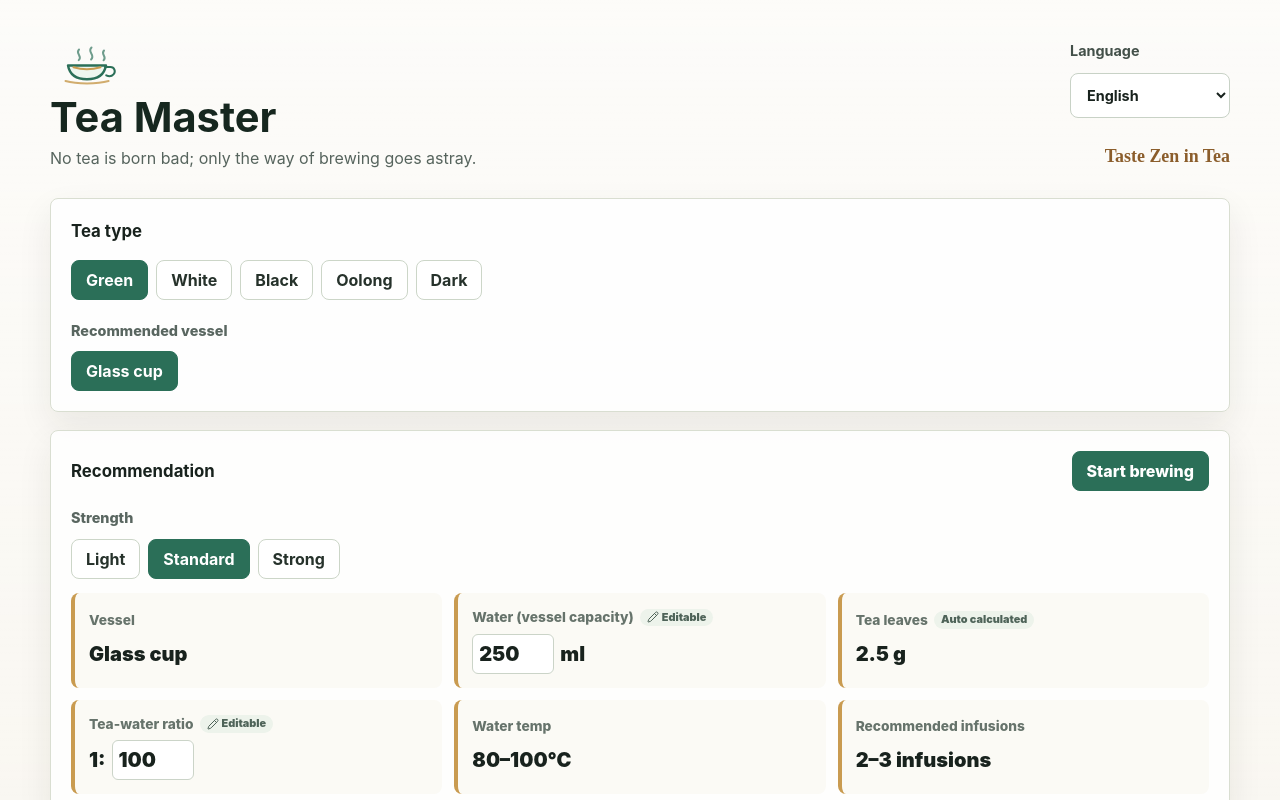
it: Tea Master app › lets users adjust tea strength presets by changing the active ratio
Expected: the element named "Strength" is shown, 71,539 -> 340,579
Expected: the text with test id "tea-amount" reads "2.5 g", 856,642 -> 906,666
Click the button "Light" at [106, 559], box 71,539 -> 140,579
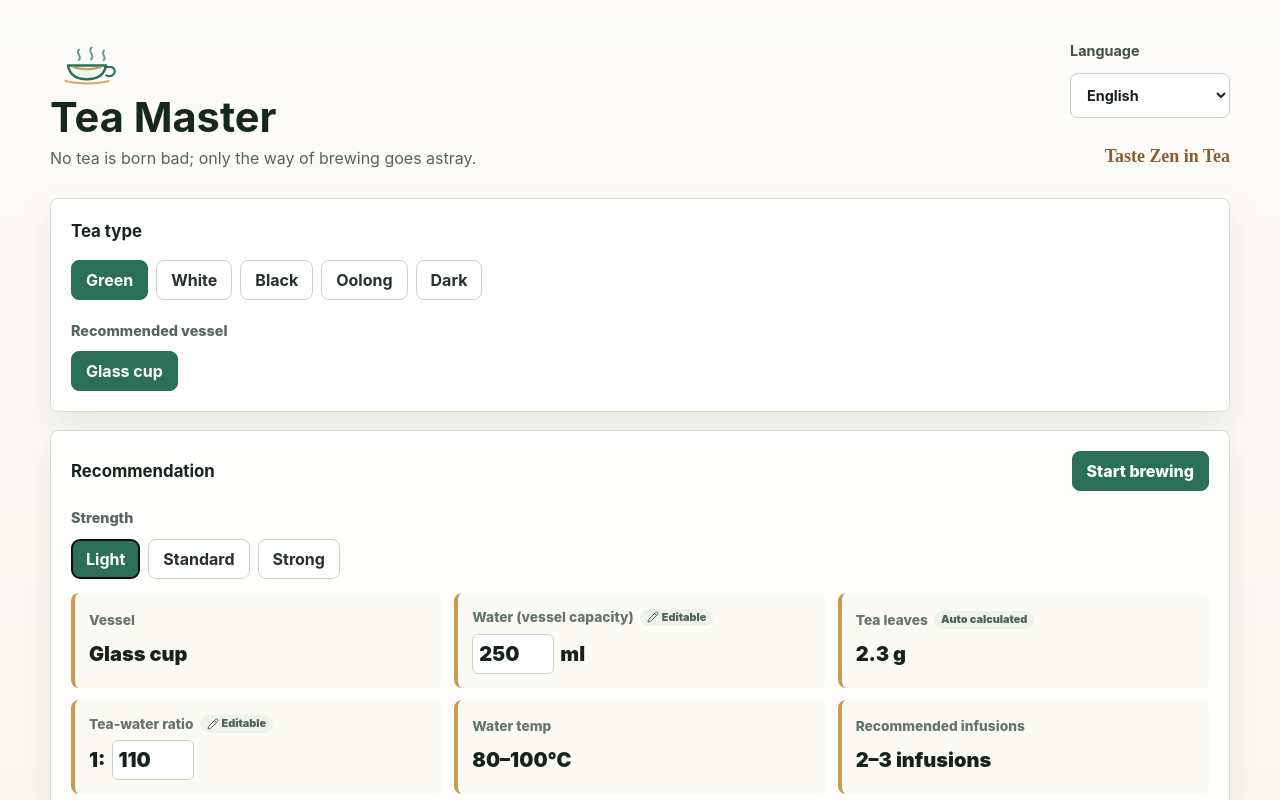
Result: the number field labelled "Tea-water ratio" holds "110" at 112,740 -> 194,780
Result: the text with test id "tea-amount" reads "2.3 g" at 856,642 -> 906,666
Click the button "Strong" at [299, 559], box 258,539 -> 340,579
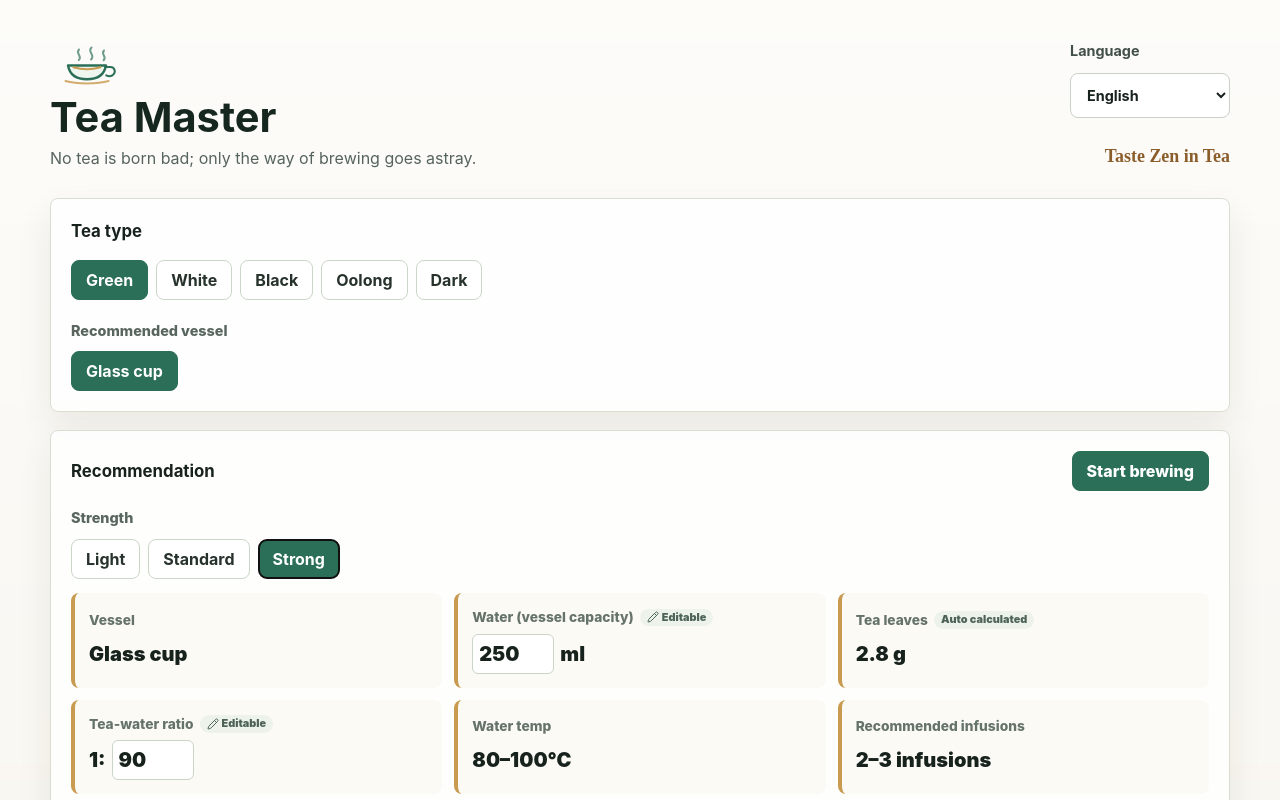
Result: the number field labelled "Tea-water ratio" holds "90" at 112,740 -> 194,780
Result: the text with test id "tea-amount" reads "2.8 g" at 856,642 -> 906,666
